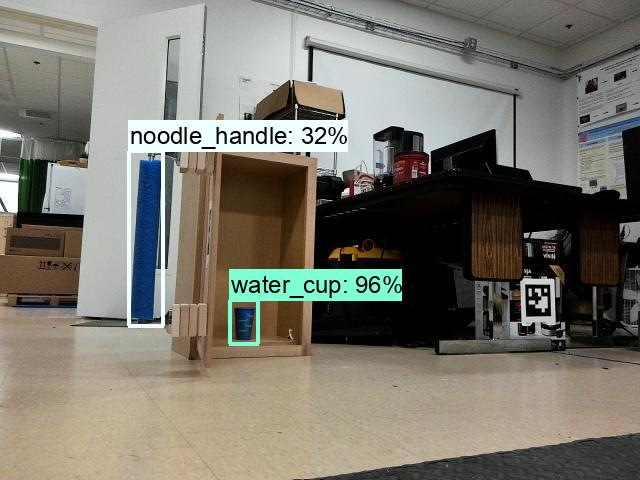noodle_handle: (128, 155, 164, 321)
water_cup: (231, 301, 256, 344)
